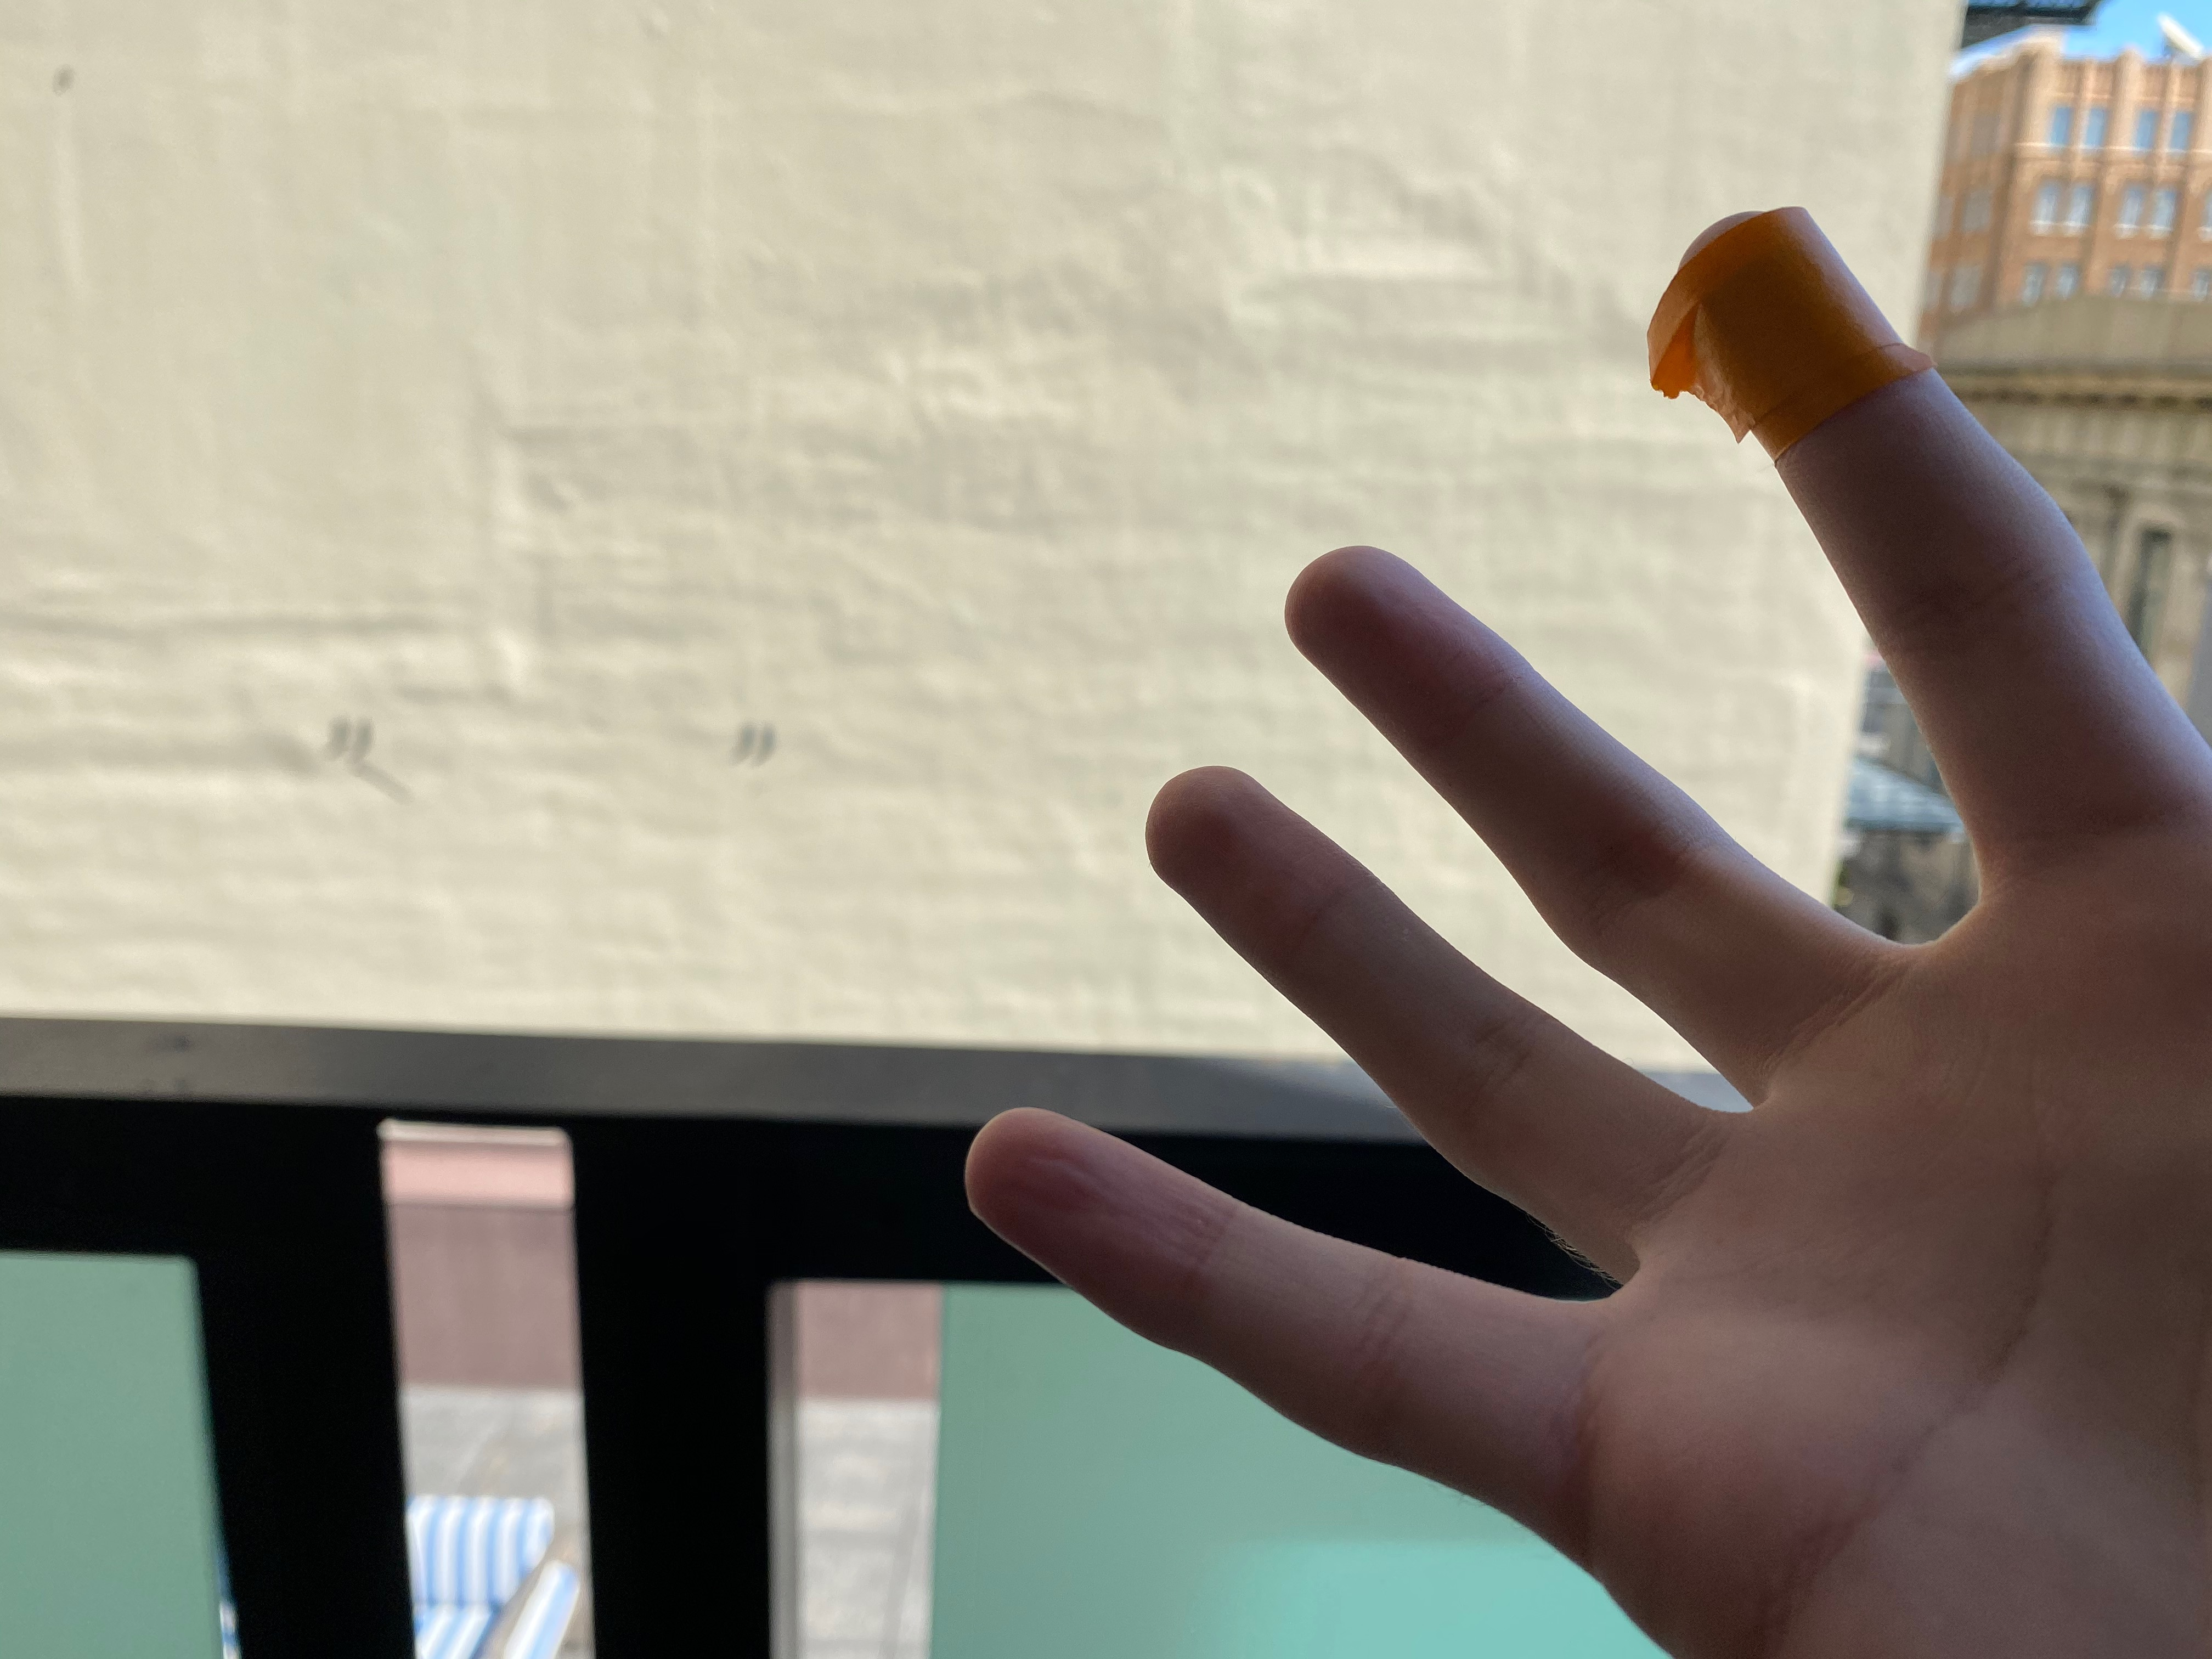fingertip: (1635, 188, 1926, 509)
